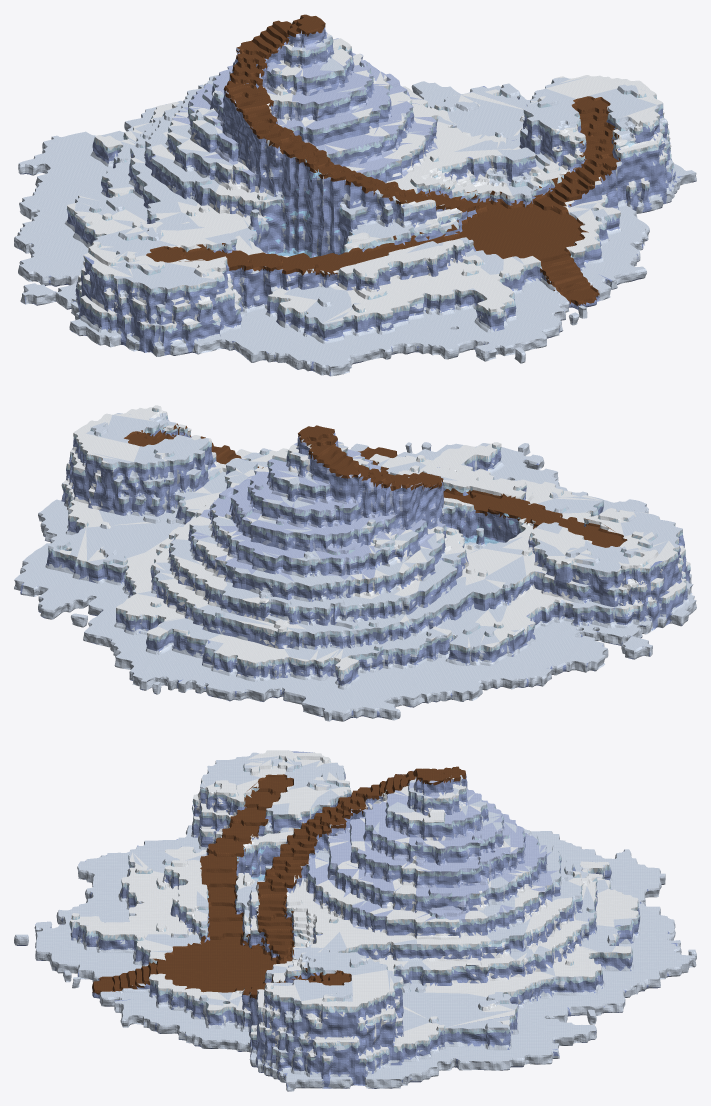
Rendered from FrostCoast_Terrain.fbx.
The picture shows the model from 3 angles, top to bottom: view 1: azimuth 30°, elevation 25°; view 2: azimuth 150°, elevation 25°; view 3: azimuth 270°, elevation 25°; orthographic projection. The views are drawn at different scales.
Parts seen in each view (by area): view 1: FrostCoast_7_8_Rock, FrostCoast_7_10_Beach, FrostCoast_5_9_Rock, FrostCoast_7_9_Grass, FrostCoast_8_8_Grass, FrostCoast_7_7_Dirt, FrostCoast_7_7_Rock, FrostCoast_6_7_GrassDark, FrostCoast_9_8_GrassDark, FrostCoast_5_7_Beach, FrostCoast_6_9_Rock, FrostCoast_6_10_Beach (+79 smaller); view 2: FrostCoast_7_6_Rock, FrostCoast_7_6_GrassDark, FrostCoast_5_8_Rock, FrostCoast_7_7_Rock, FrostCoast_5_7_Beach, FrostCoast_6_7_GrassDark, FrostCoast_8_5_Beach, FrostCoast_6_6_Beach, FrostCoast_9_7_GrassDark, FrostCoast_7_6_Stone, FrostCoast_8_6_Grass, FrostCoast_6_6_GrassDark (+72 smaller); view 3: FrostCoast_8_7_Rock, FrostCoast_10_8_Rock, FrostCoast_8_7_Stone, FrostCoast_8_8_Grass, FrostCoast_8_6_Grass, FrostCoast_8_9_Dirt, FrostCoast_8_6_Rock, FrostCoast_9_6_Beach, FrostCoast_7_9_Grass, FrostCoast_8_5_Beach, FrostCoast_8_10_Beach, FrostCoast_7_8_Dirt (+71 smaller).
Boxes of the visible parts, <box> form: FrostCoast_7_8_Rock: <box>247,100,404,257</box>; FrostCoast_7_10_Beach: <box>360,288,541,361</box>; FrostCoast_5_9_Rock: <box>113,281,247,359</box>; FrostCoast_7_9_Grass: <box>332,232,472,314</box>; FrostCoast_8_8_Grass: <box>352,108,493,219</box>; FrostCoast_7_7_Dirt: <box>224,14,325,130</box>; FrostCoast_7_7_Rock: <box>190,30,350,185</box>; FrostCoast_6_7_GrassDark: <box>79,115,232,226</box>; FrostCoast_9_8_GrassDark: <box>454,89,580,198</box>; FrostCoast_5_7_Beach: <box>17,210,96,291</box>; FrostCoast_6_9_Rock: <box>222,264,351,361</box>; FrostCoast_6_10_Beach: <box>269,315,392,376</box>; FrostCoast_7_6_Rock: <box>226,484,377,672</box>; FrostCoast_7_6_GrassDark: <box>221,479,379,659</box>; FrostCoast_5_8_Rock: <box>547,551,687,645</box>; FrostCoast_7_7_Rock: <box>295,432,437,565</box>; FrostCoast_5_7_Beach: <box>495,603,634,683</box>; FrostCoast_6_7_GrassDark: <box>385,531,513,644</box>; FrostCoast_8_5_Beach: <box>110,614,207,694</box>; FrostCoast_6_6_Beach: <box>327,634,478,706</box>; FrostCoast_9_7_GrassDark: <box>86,452,199,556</box>; FrostCoast_7_6_Stone: <box>248,485,375,583</box>; FrostCoast_8_6_Grass: <box>128,501,275,622</box>; FrostCoast_6_6_GrassDark: <box>330,569,479,666</box>; FrostCoast_8_7_Rock: <box>364,780,481,937</box>; FrostCoast_10_8_Rock: <box>250,989,366,1088</box>; FrostCoast_8_7_Stone: <box>360,780,482,922</box>; FrostCoast_8_8_Grass: <box>250,841,374,959</box>; FrostCoast_8_6_Grass: <box>478,826,597,976</box>; FrostCoast_8_9_Dirt: <box>136,915,254,982</box>; FrostCoast_8_6_Rock: <box>479,817,595,968</box>; FrostCoast_9_6_Beach: <box>503,976,597,1046</box>; FrostCoast_7_9_Grass: <box>128,860,251,922</box>; FrostCoast_8_5_Beach: <box>601,929,696,996</box>; FrostCoast_8_10_Beach: <box>35,923,137,988</box>; FrostCoast_7_8_Dirt: <box>256,787,369,887</box>.
Size of the model in its own units: 389 by 106 by 381.
Materials: 7 (7 with a texture image).
